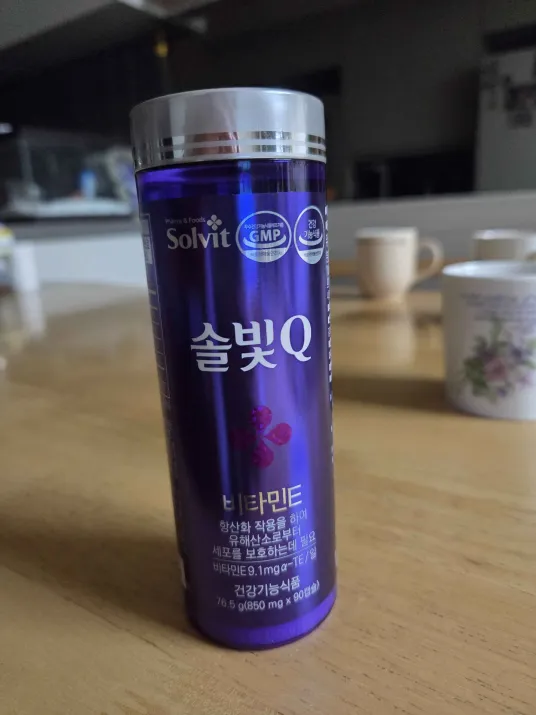supplement_label: (133, 180, 352, 631)
